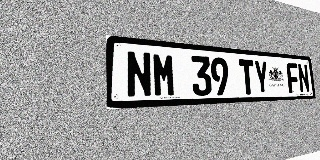3: (191, 55, 212, 96)
9: (210, 57, 230, 95)
F: (286, 63, 300, 93)
M: (152, 52, 176, 97)
N: (126, 50, 152, 98), (297, 63, 310, 93)
T: (239, 59, 256, 95)
Y: (253, 60, 269, 94)
